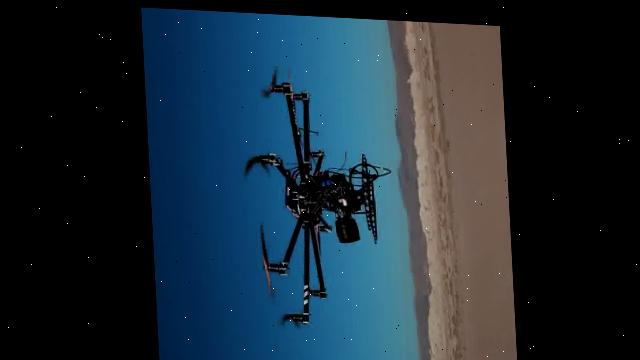drone: (319, 13, 515, 360)
